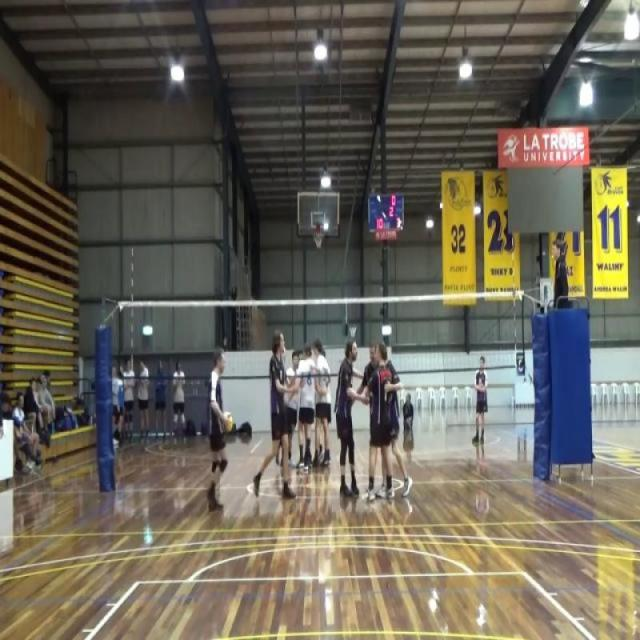volleyball: (222, 410, 234, 430)
